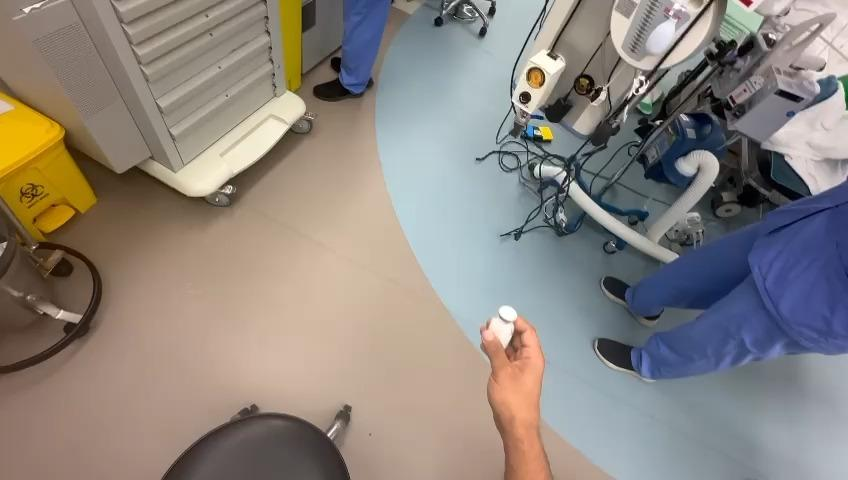augmentin: (489, 306, 517, 347)
